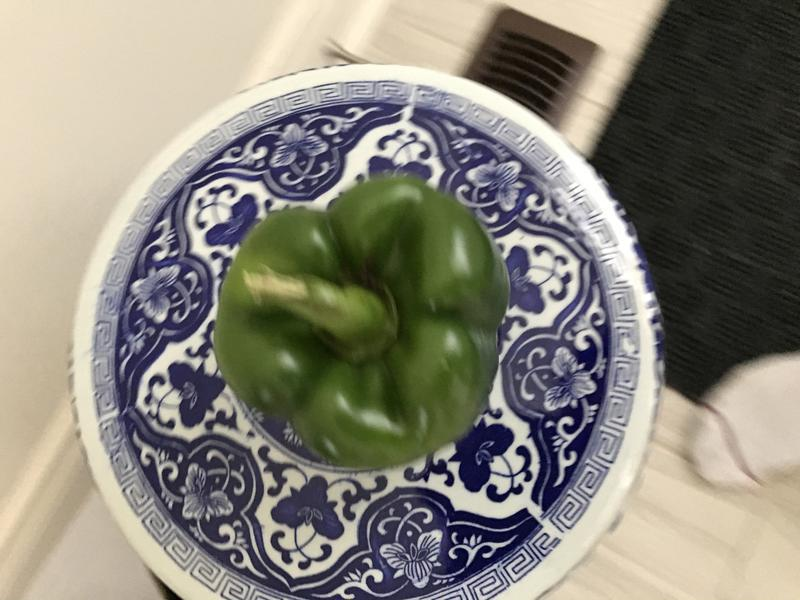green_pepper: (218, 171, 501, 471)
